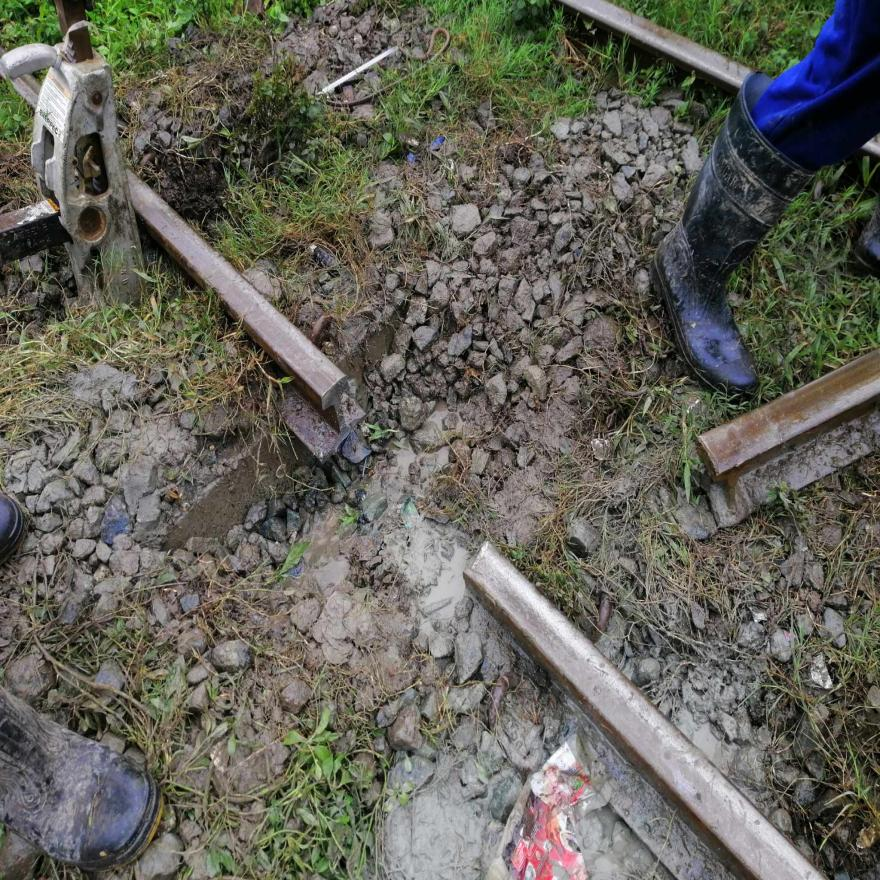railway-gap: (297, 346, 509, 642)
